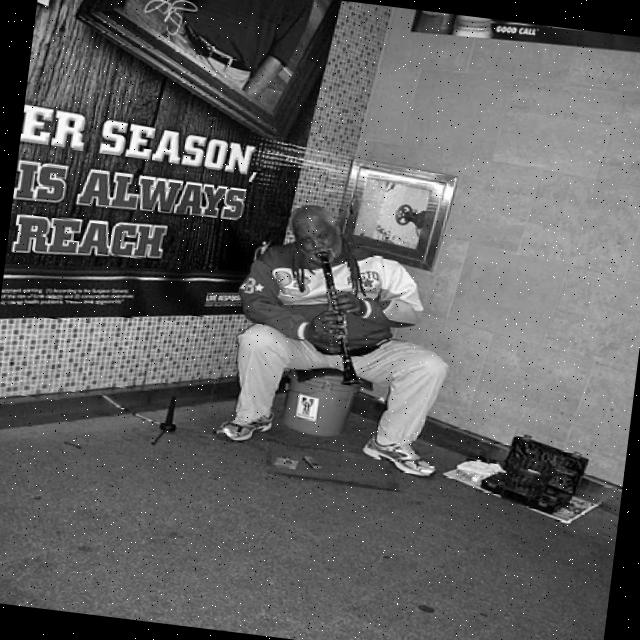clarinet: (298, 249, 380, 390)
